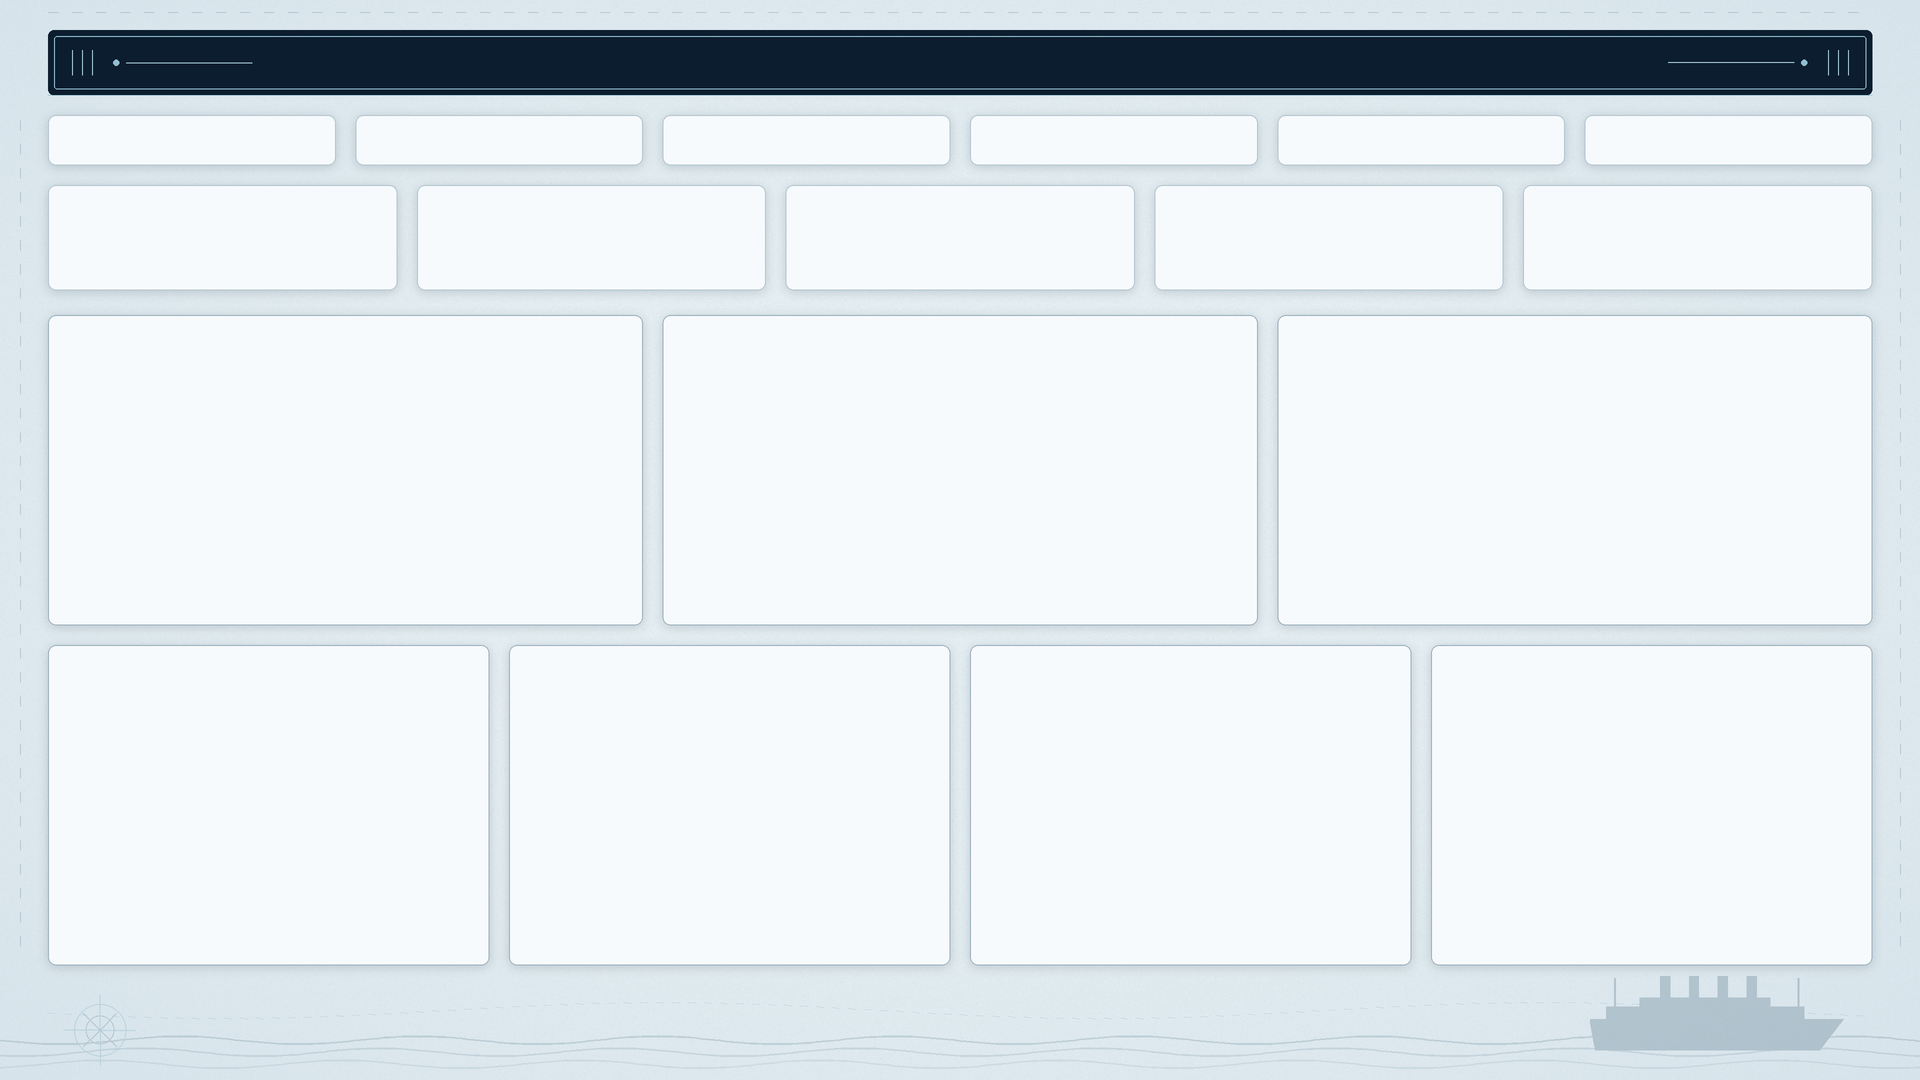

The page's visual inventory and layout, read from the dashboard file:
{"tool":"powerbi","page":{"name":"Análise Titanic","canvas":[1920,1080],"ordinal":0},"visuals":[{"type":"textbox","box":[77.1,41.4,1814.3,54.3],"z":0},{"type":"cardVisual","fields":{"Data":["_Medidas.Total de passageiros"]},"box":[77.1,178.6,335.7,104.3],"z":1000},{"type":"cardVisual","fields":{"Data":["_Medidas.Sobreviventes"]},"box":[445.7,178.6,335.7,104.3],"z":2000},{"type":"cardVisual","fields":{"Data":["_Medidas.Não sobreviventes"]},"box":[815.7,178.6,335.7,104.3],"z":3000},{"type":"cardVisual","fields":{"Data":["_Medidas.Taxa de sobrevivência"]},"box":[1185.7,178.6,335.7,104.3],"z":4000},{"type":"cardVisual","fields":{"Data":["_Medidas.Idade média"]},"box":[1555.7,178.6,335.7,104.3],"z":5000},{"type":"hundredPercentStackedColumnChart","title":"Taxa de Sobrevivência por Gênero","fields":{"Category":["titanic.sexo"],"Series":["titanic.resultado_sobrevivencia"],"Y":["_Medidas.Total de passageiros"]},"box":[77.1,311.4,582.9,315.7],"z":6000},{"type":"hundredPercentStackedColumnChart","title":"Taxa de Sobrevivência por Classe","fields":{"Category":["titanic.classe_descricao"],"Series":["titanic.resultado_sobrevivencia"],"Y":["_Medidas.Total de passageiros"]},"box":[692.9,311.4,582.9,315.7],"z":7000},{"type":"hundredPercentStackedColumnChart","title":"Taxa de Sobrevivência por Faixa Etária","fields":{"Category":["titanic.faixa_etaria"],"Series":["titanic.resultado_sobrevivencia"],"Y":["_Medidas.Total de passageiros"]},"box":[995.7,640,434.3,315.7],"z":8000},{"type":"hundredPercentStackedColumnChart","title":"Taxa de Sobrevivência por Porto de Embarque","fields":{"Category":["titanic.porto_embarque"],"Series":["titanic.resultado_sobrevivencia"],"Y":["_Medidas.Total de passageiros"]},"box":[67.1,640,474.3,328.6],"z":9000},{"type":"hundredPercentStackedColumnChart","title":"Taxa de Sobrevivência por Tamanho da Família","fields":{"Category":["titanic.grupo_tamanho_familia"],"Series":["titanic.resultado_sobrevivencia"],"Y":["_Medidas.Total de passageiros"]},"box":[531.4,640,474.3,328.6],"z":10000},{"type":"hundredPercentStackedBarChart","title":"Taxa de Sobrevivência por Deck","fields":{"Category":["titanic.deck"],"Series":["titanic.resultado_sobrevivencia"],"Y":["_Medidas.Total de passageiros"]},"box":[1468.6,640,412.9,317.1],"z":11000},{"type":"hundredPercentStackedBarChart","title":"Taxa de Sobrevivência por Classe e Gênero","fields":{"Category":["titanic.classe_descricao","titanic.sexo"],"Series":["titanic.resultado_sobrevivencia"],"Y":["_Medidas.Total de passageiros"]},"box":[1305.7,311.4,575.7,328.6],"z":12000},{"type":"slicer","title":"Sexo","fields":{"Values":["titanic.sexo"]},"box":[101.4,112.9,229,50],"z":13000},{"type":"slicer","fields":{"Values":["titanic.classe_descricao"]},"box":[387.1,112.9,229,50],"z":14000},{"type":"slicer","fields":{"Values":["titanic.faixa_etaria"]},"box":[695.7,112.9,229,50],"z":15000},{"type":"slicer","fields":{"Values":["titanic.porto_embarque"]},"box":[1004.3,112.9,229,50],"z":16000},{"type":"slicer","fields":{"Values":["titanic.deck"]},"box":[1312.9,112.9,229,50],"z":17000},{"type":"slicer","fields":{"Values":["titanic.grupo_tamanho_familia"]},"box":[1621.4,112.9,229,50],"z":18000}]}

Visuals, with their boxes in screenshot pixels (x1, y1, x2, y2), scaled from the page's 1920x1080 canvas onto the 1920x1080 screenshot:
textbox: 77 41 1891 96
cardVisual - _Medidas.Total de passageiros: 77 179 413 283
cardVisual - _Medidas.Sobreviventes: 446 179 781 283
cardVisual - _Medidas.Não sobreviventes: 816 179 1151 283
cardVisual - _Medidas.Taxa de sobrevivência: 1186 179 1521 283
cardVisual - _Medidas.Idade média: 1556 179 1891 283
"Taxa de Sobrevivência por Gênero" hundredPercentStackedColumnChart: 77 311 660 627
"Taxa de Sobrevivência por Classe" hundredPercentStackedColumnChart: 693 311 1276 627
"Taxa de Sobrevivência por Faixa Etária" hundredPercentStackedColumnChart: 996 640 1430 956
"Taxa de Sobrevivência por Porto de Embarque" hundredPercentStackedColumnChart: 67 640 541 969
"Taxa de Sobrevivência por Tamanho da Família" hundredPercentStackedColumnChart: 531 640 1006 969
"Taxa de Sobrevivência por Deck" hundredPercentStackedBarChart: 1469 640 1882 957
"Taxa de Sobrevivência por Classe e Gênero" hundredPercentStackedBarChart: 1306 311 1881 640
"Sexo" slicer: 101 113 330 163
slicer - titanic.classe_descricao: 387 113 616 163
slicer - titanic.faixa_etaria: 696 113 925 163
slicer - titanic.porto_embarque: 1004 113 1233 163
slicer - titanic.deck: 1313 113 1542 163
slicer - titanic.grupo_tamanho_familia: 1621 113 1850 163
